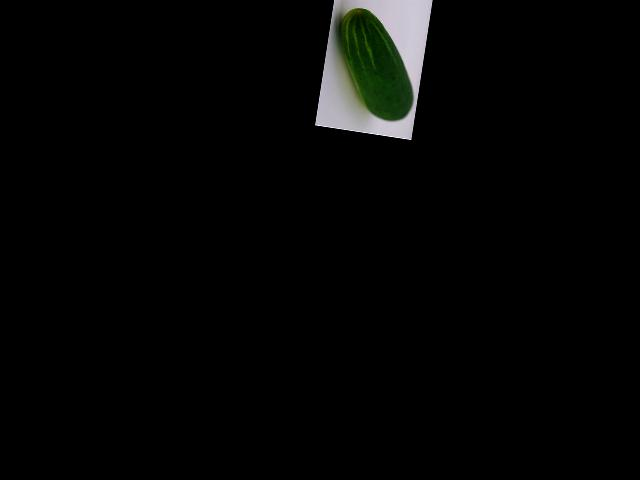cucumber: (327, 6, 425, 124)
